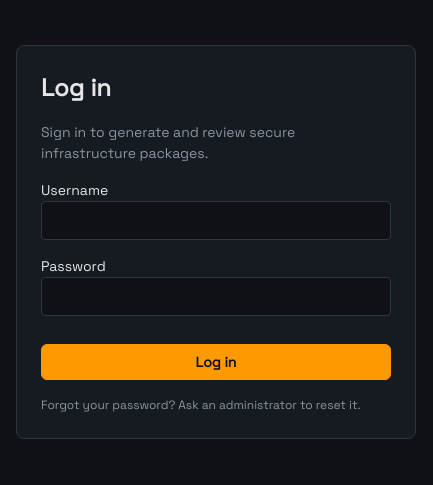
Scenario: NFR-01 login has password visibility Caps Lock and safe generic failures
Press A in the password field labelled "Password", box 41,277 -> 391,316
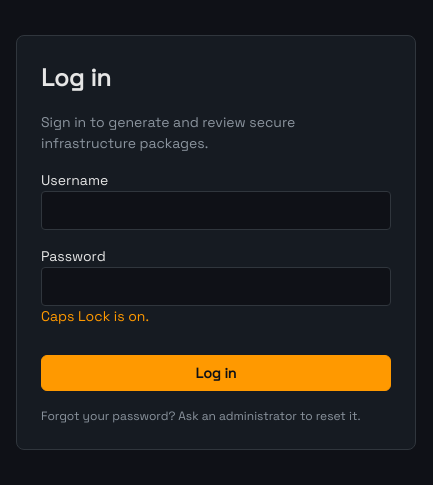
Check: the text "Caps Lock is on." is shown, box 41,306 -> 149,324
Click the button named "Show password". click: [378, 292]
box: 366,280 -> 390,304
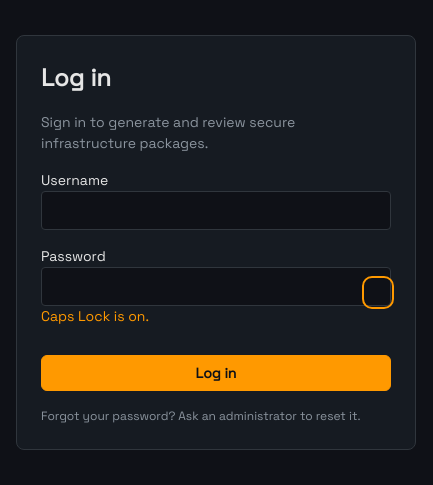
Type "reviewer" into the field labelled "Username". click: [216, 210]
box: 41,190 -> 391,230
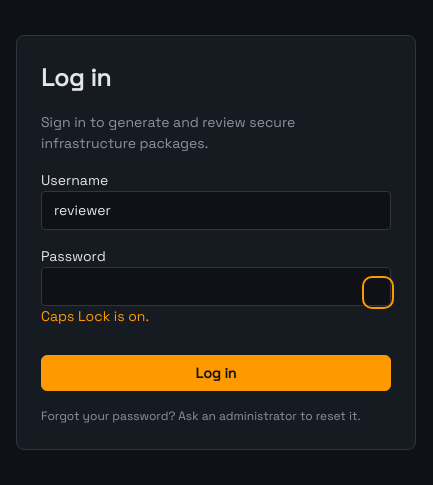
Type "synthetic-password" into the field labelled "Password". click: [216, 286]
box: 41,266 -> 391,306
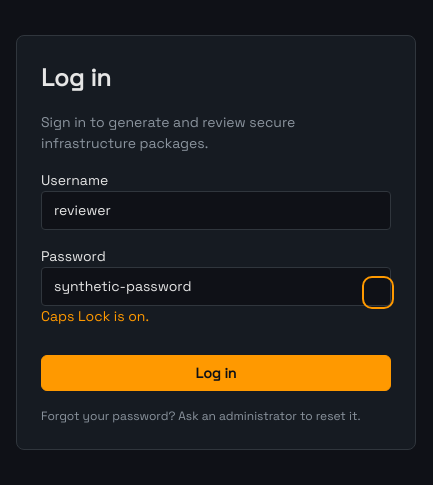
Submit the form named "Password"
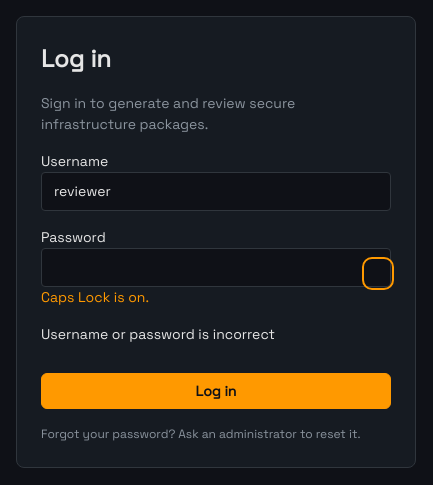
Check: the text "Forgot your password? Ask an administrator to reset it." is shown, box 41,425 -> 391,443
Check: the text "Username or password is incorrect" is shown, box 41,325 -> 275,343
Check: the field labelled "Password" is empty, box 41,248 -> 391,287
